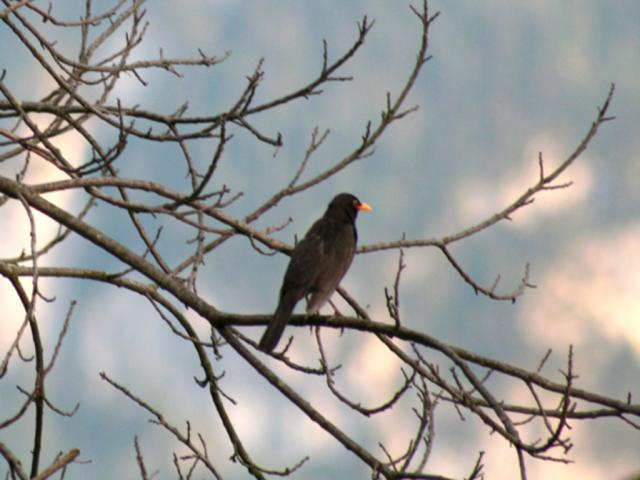Bird: (260, 188, 374, 350)
